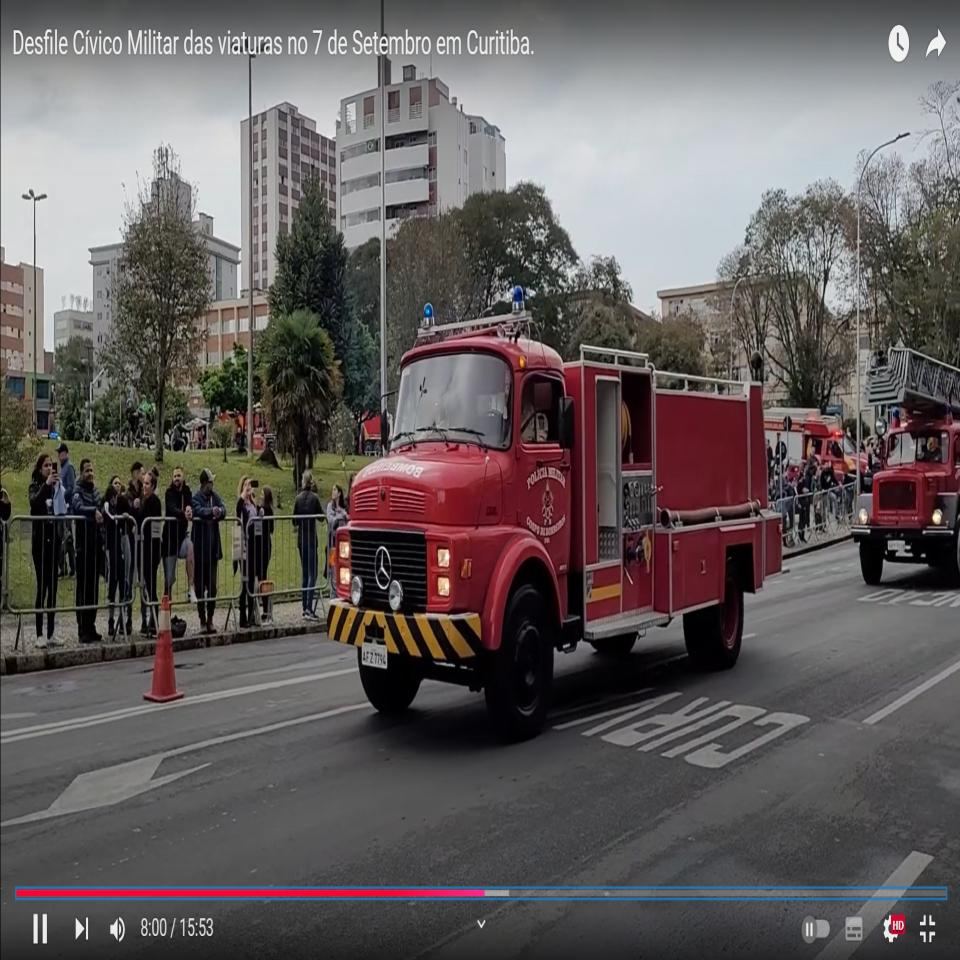viatura: (320, 285, 781, 737), (849, 344, 960, 582)
